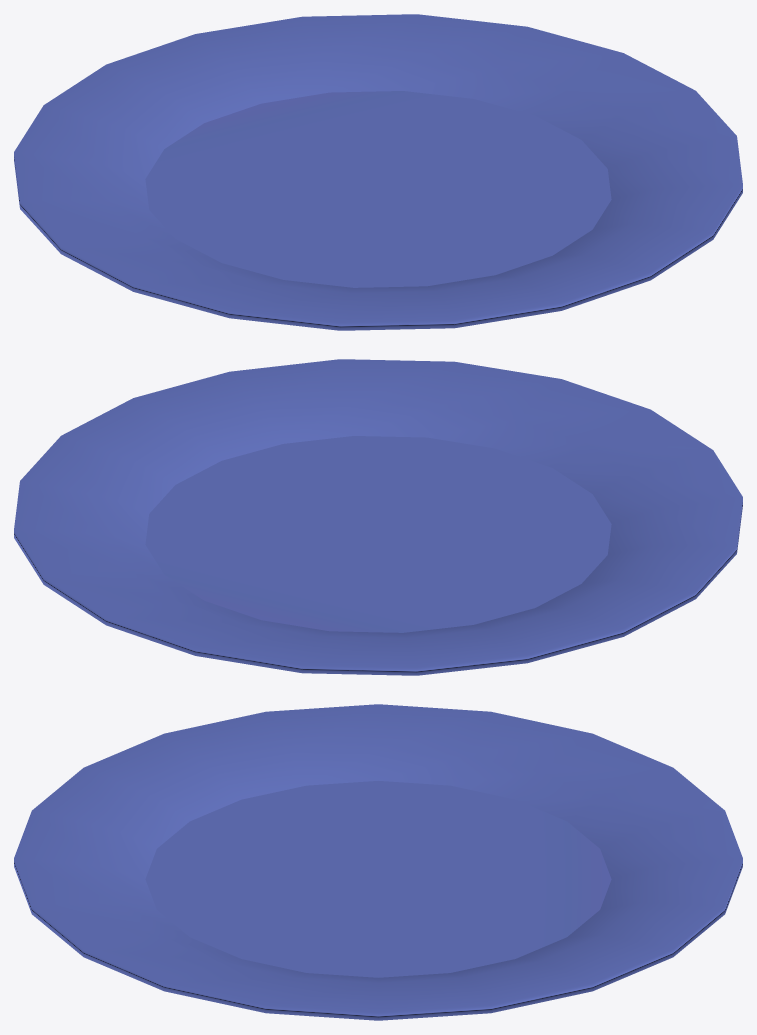
The model's file is Dish.fbx.
3 views of the same model, one above another, from view 1: azimuth 30°, elevation 25°; view 2: azimuth 150°, elevation 25°; view 3: azimuth 270°, elevation 25° (orthographic).
Parts seen in each view (by area): view 1: pCylinder1; view 2: pCylinder1; view 3: pCylinder1.
Boxes of the visible parts, x1,y1,x2,y2 form: pCylinder1: (14,14,742,330); pCylinder1: (14,359,742,675); pCylinder1: (14,704,742,1020).
Size of the model in its own units: 50.5 by 2.78 by 50.5.
